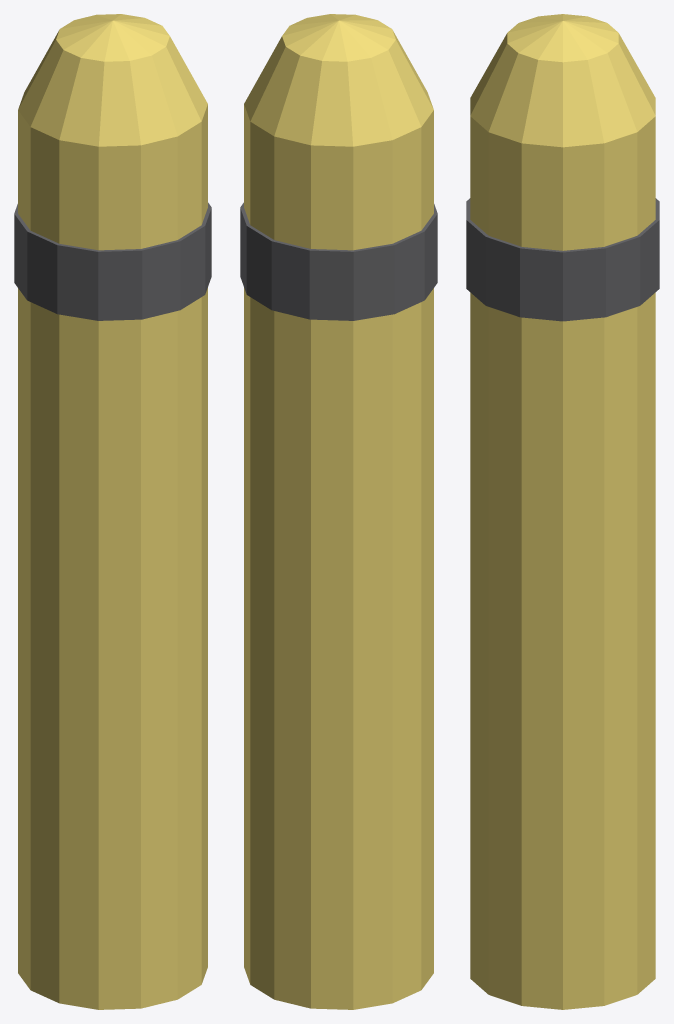
The model's file is bollard.glb.
3 renders of one model, left to right at view 1: azimuth 30°, elevation 25°; view 2: azimuth 150°, elevation 25°; view 3: azimuth 270°, elevation 25°, orthographic.
Parts seen in each view (by area): view 1: bollard_paint_y, bollard_dark; view 2: bollard_paint_y, bollard_dark; view 3: bollard_paint_y, bollard_dark.
Part boxes in pixels (bbox=[...]): bollard_paint_y: bbox=[18, 14, 207, 1009]; bollard_dark: bbox=[14, 202, 211, 320]; bollard_paint_y: bbox=[244, 14, 433, 1009]; bollard_dark: bbox=[240, 202, 437, 320]; bollard_paint_y: bbox=[470, 14, 655, 1009]; bollard_dark: bbox=[466, 198, 659, 321].
Bounding box in the file's own units: 0.208 × 1.1 × 0.2028.
